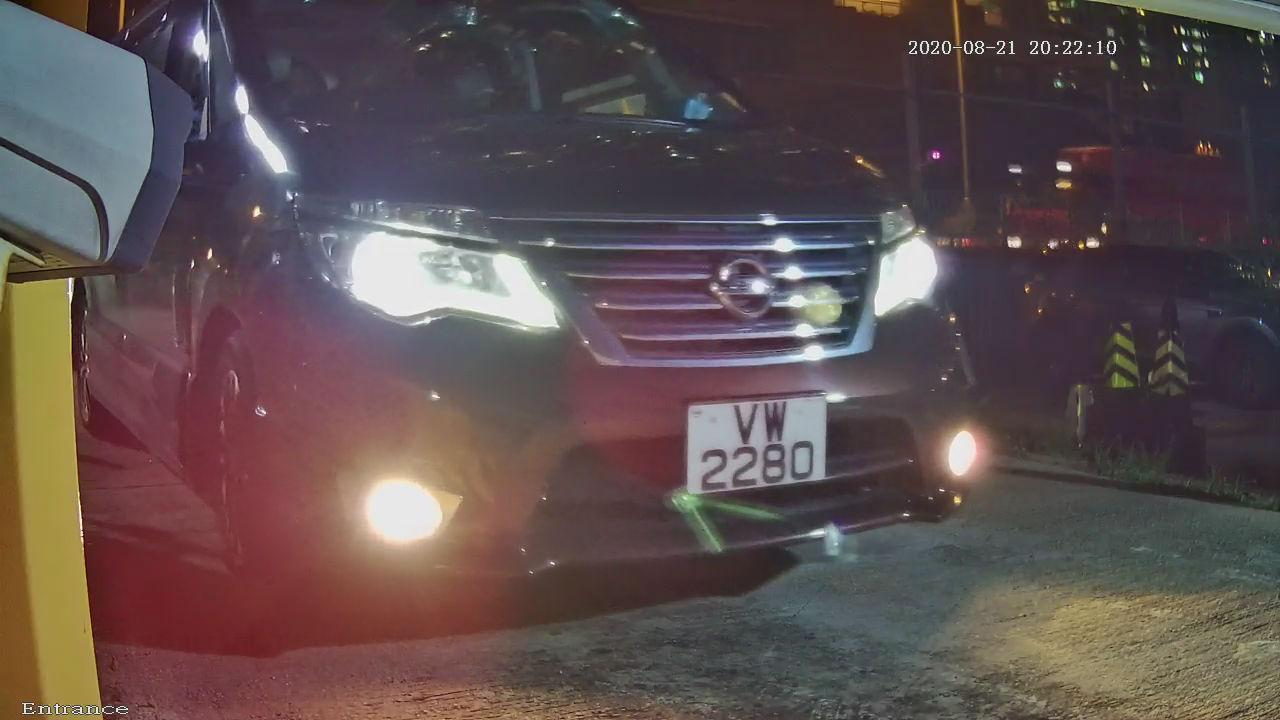Car: (52, 20, 1086, 653)
License Plate: (669, 389, 852, 505)
